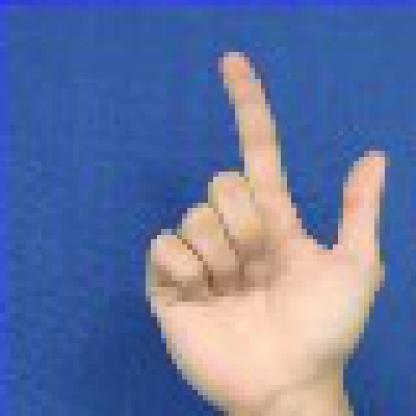seven: (99, 15, 411, 410)
